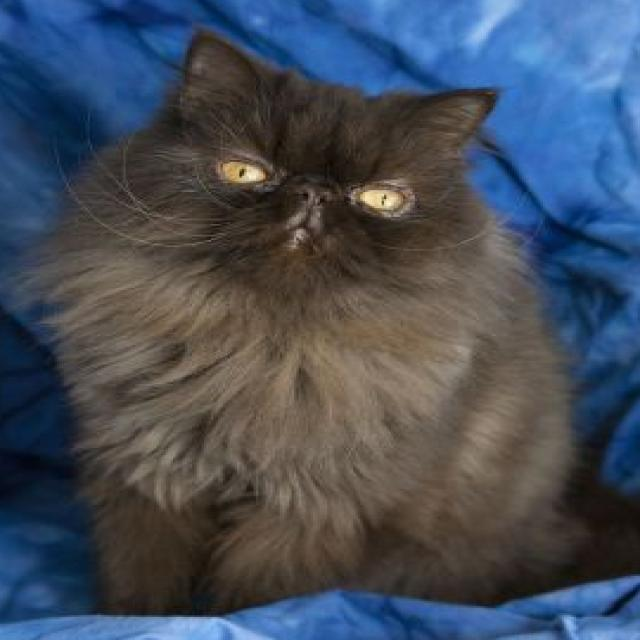Persian: (9, 25, 640, 619)
